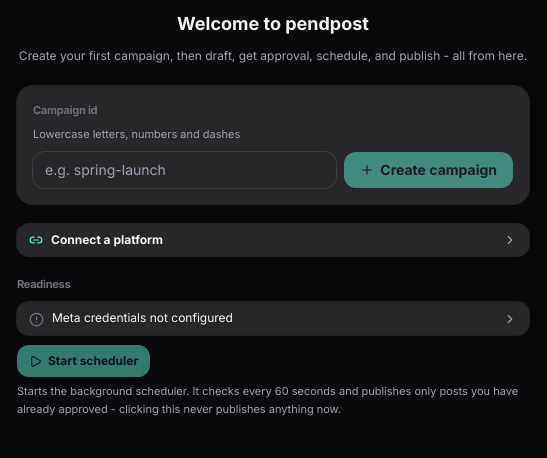
it: FirstRunEmptyState › guards an invalid id client-side with a friendly hint, not a server round-trip
The image size is (547, 458).
Type "Spring Launch 2026!" into the field labelled "Campaign id" at (185, 170), box [33, 152, 336, 188]
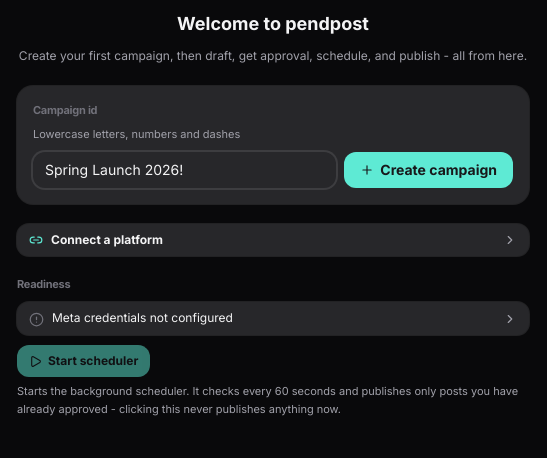
Click the button "Create campaign" at (429, 170), box [344, 152, 513, 188]
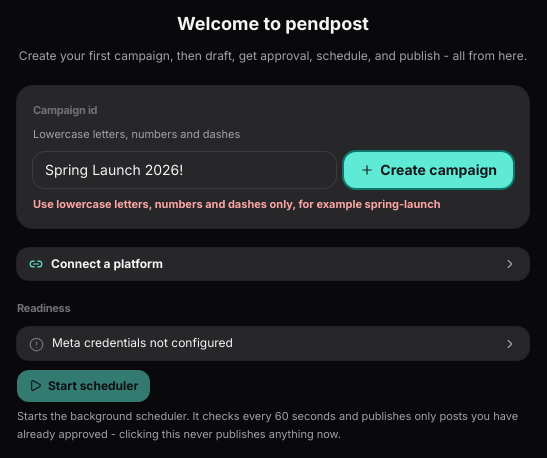
Result: the message shows "lowercase letters, numbers and dashes" at [33, 197, 440, 211]
